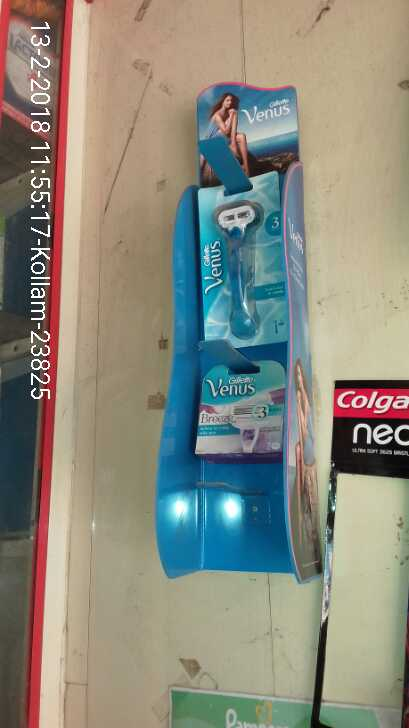venus: (194, 164, 295, 351), (195, 355, 291, 463)
